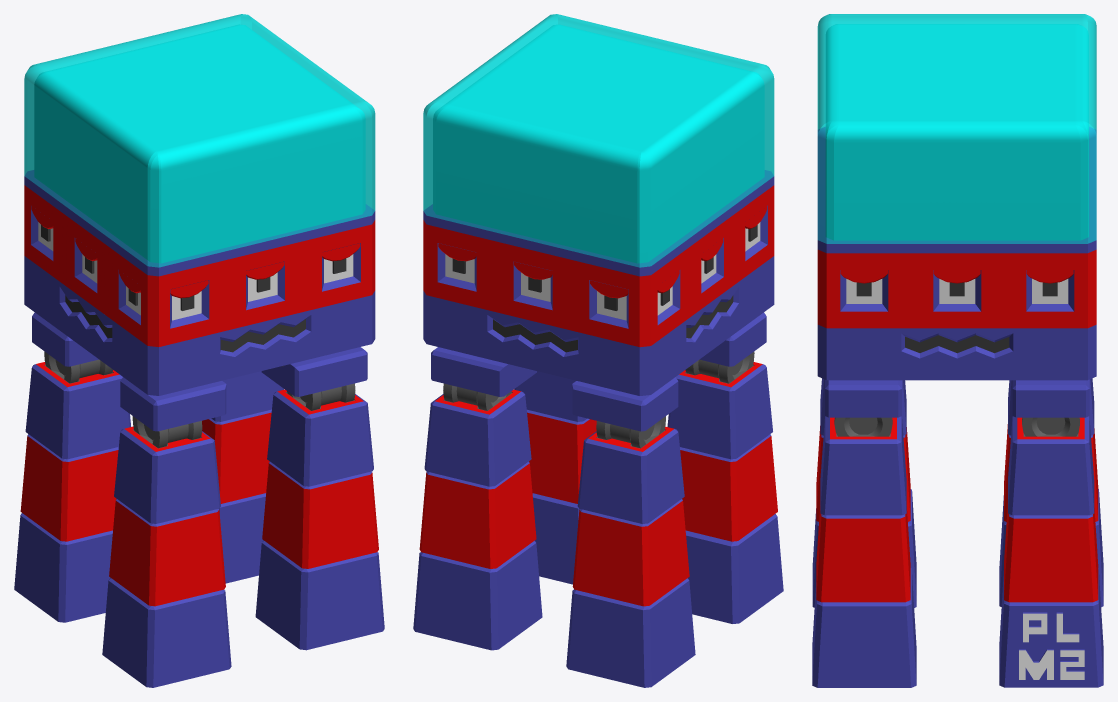
Rendered from Lickquidator_PLM2.fbx.
The picture shows the model from 3 angles, left to right: view 1: azimuth 30°, elevation 25°; view 2: azimuth 150°, elevation 25°; view 3: azimuth 270°, elevation 25°; orthographic projection. The views are drawn at different scales.
Parts seen in each view (by area): view 1: top_section, top_fill, case3 (×4), case2 (×4), case1 (×4), mid_casing, low_torso, leg_carraige2, leg_carraige1, pivot1 (×3), pPlane1, eye_whites (+2 smaller); view 2: top_section, top_fill, case3 (×4), case2 (×4), case1 (×4), mid_casing, low_torso, leg_carraige4, leg_carraige3, pivot1 (×3), pPlane6, eye_whites (+2 smaller); view 3: top_section, top_fill, case2 (×4), case3 (×4), mid_casing, case1 (×4), low_torso, leg_carraige3, pPlane5, leg_carraige1, decal2, pivot1 (×2) (+4 smaller).
Boxes of the visible parts, bbox=[...] form: top_section: bbox=[24, 14, 375, 276]; top_fill: bbox=[34, 24, 365, 262]; case3 (×4): bbox=[14, 493, 384, 687]; case2 (×4): bbox=[20, 409, 378, 606]; case1 (×4): bbox=[25, 362, 373, 523]; mid_casing: bbox=[24, 185, 375, 347]; low_torso: bbox=[24, 256, 375, 395]; leg_carraige2: bbox=[120, 377, 226, 431]; leg_carraige1: bbox=[261, 347, 367, 396]; pivot1 (×3): bbox=[44, 351, 355, 448]; pPlane1: bbox=[220, 315, 311, 360]; eye_whites: bbox=[38, 222, 353, 320]; top_section: bbox=[423, 14, 774, 276]; top_fill: bbox=[433, 24, 764, 263]; case3 (×4): bbox=[413, 493, 783, 687]; case2 (×4): bbox=[419, 409, 777, 606]; case1 (×4): bbox=[424, 362, 772, 523]; mid_casing: bbox=[423, 185, 774, 347]; low_torso: bbox=[423, 256, 774, 395]; leg_carraige4: bbox=[572, 377, 678, 431]; leg_carraige3: bbox=[431, 347, 536, 396]; pivot1 (×3): bbox=[443, 351, 754, 448]; pPlane6: bbox=[487, 315, 578, 360]; eye_whites: bbox=[445, 222, 760, 320]; top_section: bbox=[817, 14, 1096, 253]; top_fill: bbox=[826, 24, 1088, 240]; case2 (×4): bbox=[816, 424, 1098, 602]; case3 (×4): bbox=[812, 489, 1103, 687]; mid_casing: bbox=[817, 249, 1096, 328]; case1 (×4): bbox=[820, 378, 1094, 515]; low_torso: bbox=[817, 324, 1096, 380]; leg_carraige3: bbox=[1012, 379, 1089, 417]; pPlane5: bbox=[901, 333, 1013, 358]; leg_carraige1: bbox=[825, 379, 901, 417]; decal2: bbox=[1019, 612, 1084, 679]; pivot1 (×2): bbox=[834, 417, 1079, 436].
Bounding box in the file's own units: 1.3 × 2.72 × 1.28.
